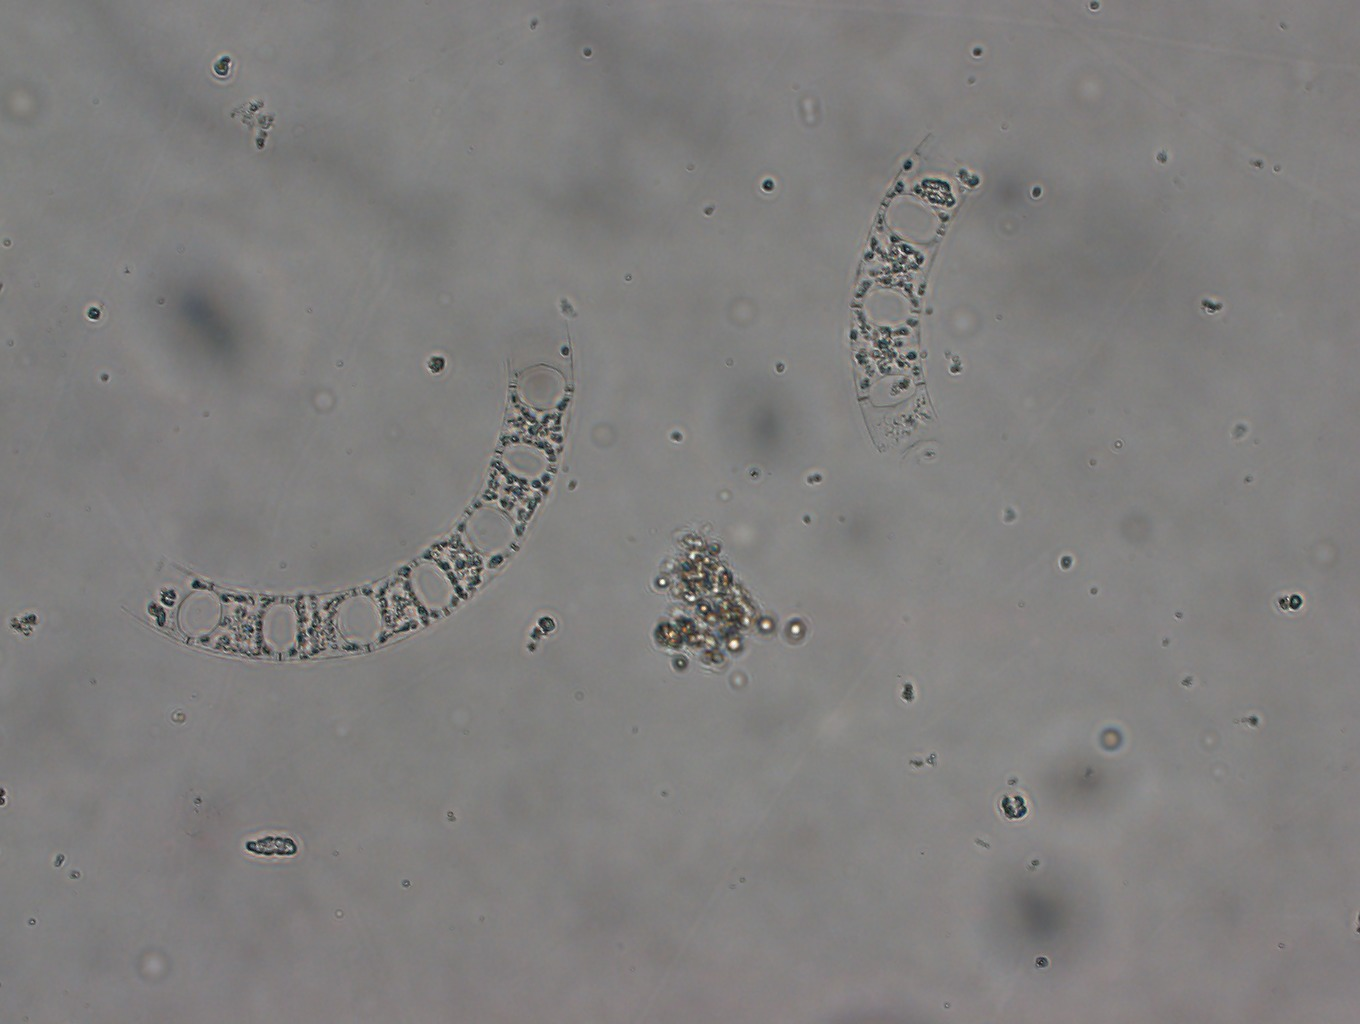eucampia: (120, 305, 581, 673), (836, 115, 989, 461)
